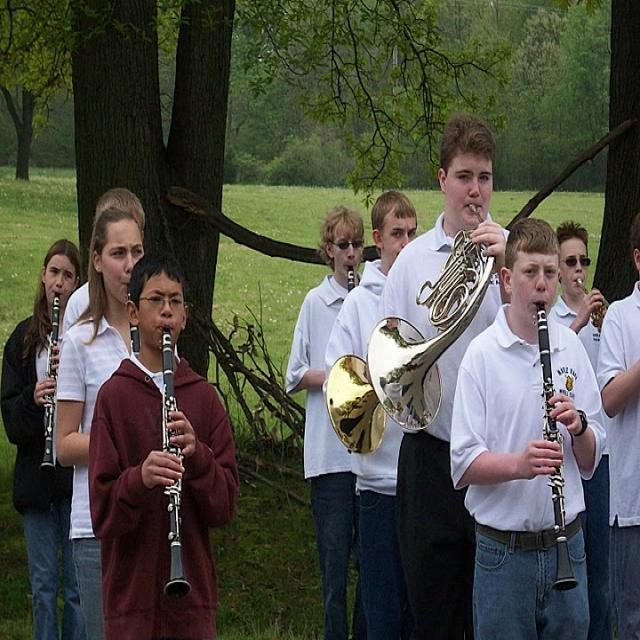clarinet: (531, 301, 583, 595), (159, 328, 192, 602), (39, 297, 61, 473), (124, 286, 144, 364), (345, 264, 358, 293)
